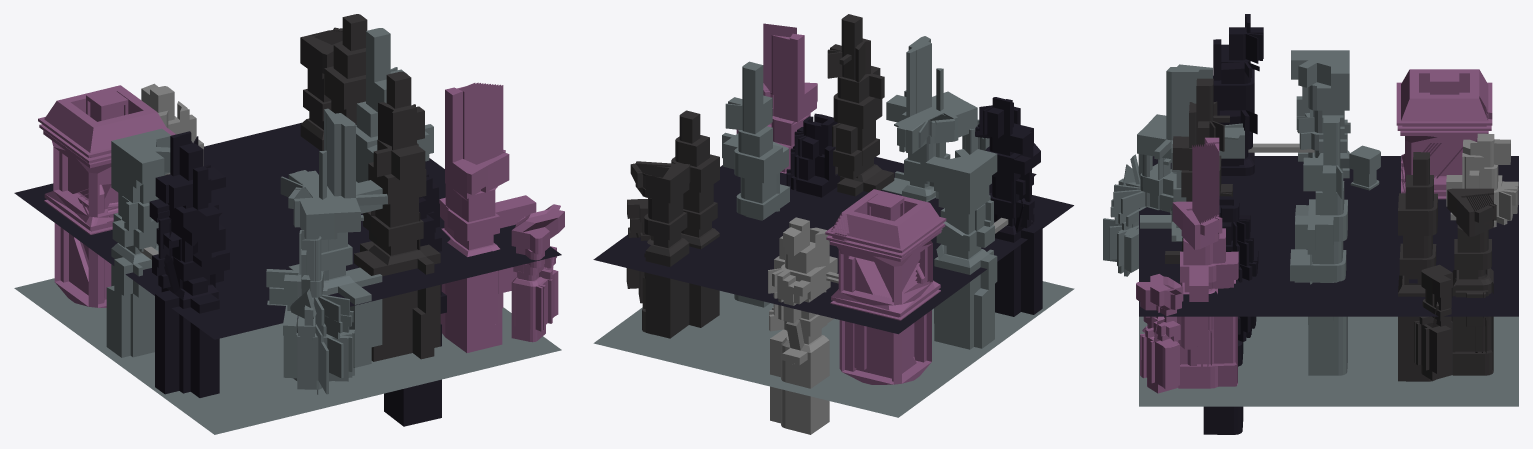
File: Nivel_3.glb
3 views of the same model, side by side, from view 1: azimuth 30°, elevation 25°; view 2: azimuth 150°, elevation 25°; view 3: azimuth 270°, elevation 25° (orthographic). The views are drawn at different scales.
Visible parts, largest first — view 1: Plano, Cubo.009, Cubo.010, Plano.001, Cubo.001, Cubo.006, Cubo.003, Cubo, Cubo.008, Cubo.007, Cubo.005, Cubo.004 (+1 smaller); view 2: Cubo.003, Plano, Plano.001, Cubo.011, Cubo, Cubo.001, Cubo.004, Cubo.010, Cubo.006, Cubo.008, Cubo.005, Cubo.009 (+1 smaller); view 3: Plano, Plano.001, Cubo.009, Cubo.004, Cubo.010, Cubo.008, Cubo.003, Cubo, Cubo.005, Cubo.001, Cubo.007, Cubo.011 (+2 smaller).
Part boxes in pixels (bbox=[...]): Plano: bbox=[14, 122, 561, 339]; Cubo.009: bbox=[439, 82, 564, 352]; Cubo.010: bbox=[266, 108, 387, 394]; Plano.001: bbox=[14, 278, 561, 434]; Cubo.001: bbox=[149, 131, 229, 397]; Cubo.006: bbox=[354, 71, 440, 361]; Cubo.003: bbox=[38, 85, 175, 307]; Cubo: bbox=[106, 128, 170, 357]; Cubo.008: bbox=[356, 28, 433, 183]; Cubo.007: bbox=[384, 172, 446, 426]; Cubo.005: bbox=[324, 14, 367, 124]; Cubo.004: bbox=[300, 27, 342, 150]; Cubo.003: bbox=[825, 189, 946, 384]; Plano: bbox=[593, 157, 1073, 334]; Plano.001: bbox=[593, 281, 1074, 417]; Cubo.011: bbox=[768, 217, 838, 434]; Cubo: bbox=[925, 149, 997, 349]; Cubo.001: bbox=[975, 97, 1042, 316]; Cubo.004: bbox=[626, 161, 690, 338]; Cubo.010: bbox=[881, 36, 989, 201]; Cubo.006: bbox=[827, 14, 894, 196]; Cubo.008: bbox=[722, 61, 789, 307]; Cubo.005: bbox=[671, 110, 719, 327]; Cubo.009: bbox=[736, 23, 817, 173]; Plano: bbox=[1139, 156, 1518, 316]; Plano.001: bbox=[1139, 316, 1518, 406]; Cubo.009: bbox=[1136, 137, 1238, 393]; Cubo.004: bbox=[1414, 188, 1496, 380]; Cubo.010: bbox=[1103, 64, 1244, 276]; Cubo.008: bbox=[1290, 115, 1347, 375]; Cubo.003: bbox=[1396, 69, 1492, 199]; Cubo: bbox=[1291, 50, 1380, 190]; Cubo.005: bbox=[1398, 152, 1437, 381]; Cubo.001: bbox=[1213, 14, 1263, 175]; Cubo.007: bbox=[1203, 196, 1258, 434]; Cubo.011: bbox=[1446, 133, 1518, 227].
Bounding box in the file's own units: 10.4 × 9.46 × 10.71.
